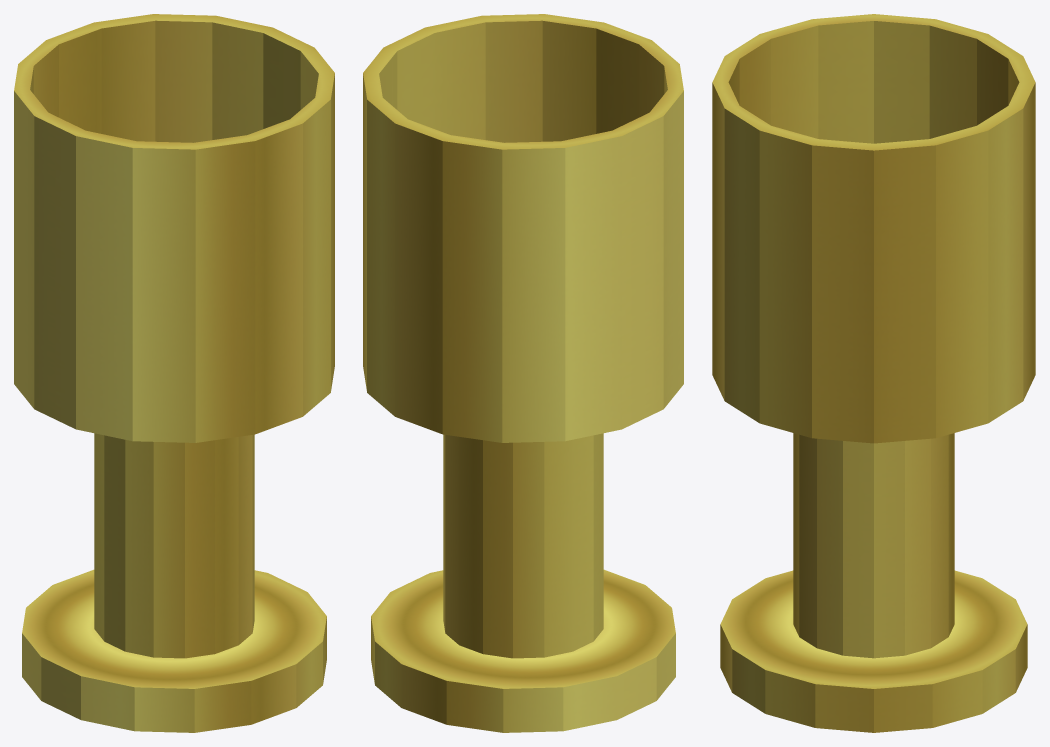
File: chalice.obj
3 renders of one model, left to right at view 1: azimuth 30°, elevation 25°; view 2: azimuth 150°, elevation 25°; view 3: azimuth 270°, elevation 25°, orthographic.
Visible parts, largest first — view 1: Cylinder; view 2: Cylinder; view 3: Cylinder.
Boxes of the visible parts, <box> form: Cylinder: <box>14,14,334,732</box>; Cylinder: <box>363,14,683,732</box>; Cylinder: <box>712,14,1035,732</box>.
Bounding box in the file's own units: 2 × 4 × 2.
1 material, 1 textured.
